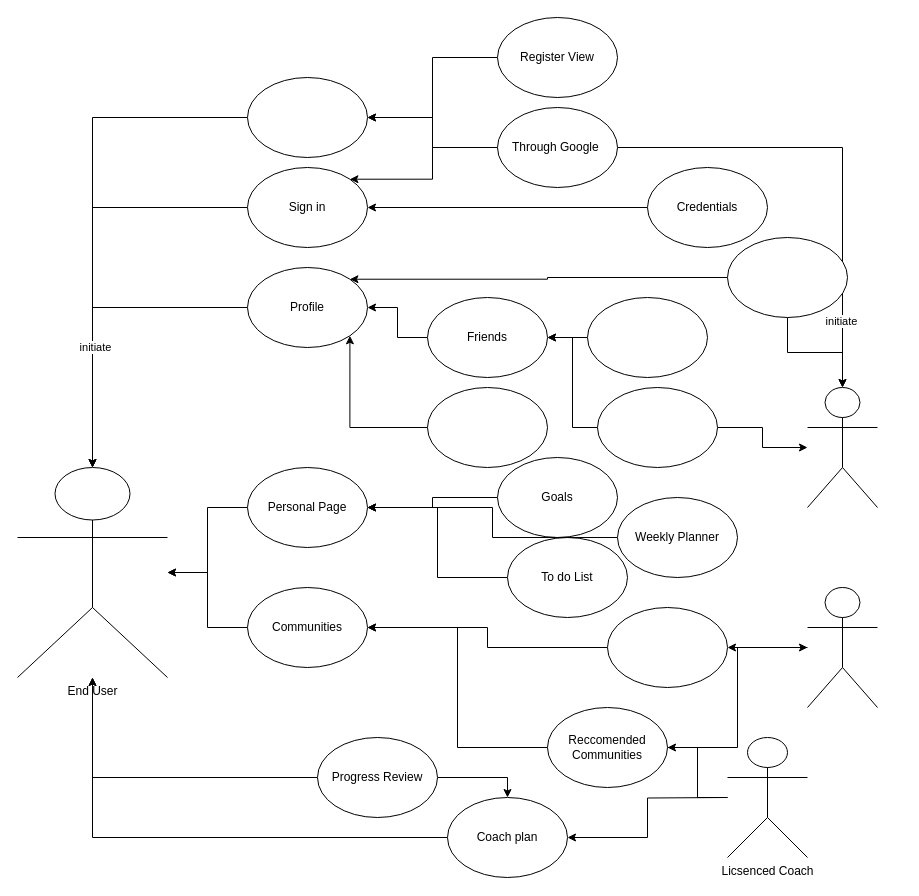
Some shapes in this 919 by 896 pixel diagram are drawn without their labels. Each missing label, with the centre of its shape:
"Active Communities" belongs at pixel 667 647.
"Chat" belongs at pixel 647 337.
"Community Moderator" belongs at pixel 842 647.
"Help" belongs at pixel 787 277.
"LogOut" belongs at pixel 487 427.
"Register" belongs at pixel 307 117.
"Report User" belongs at pixel 657 427.
"Tech Support" belongs at pixel 842 447.
